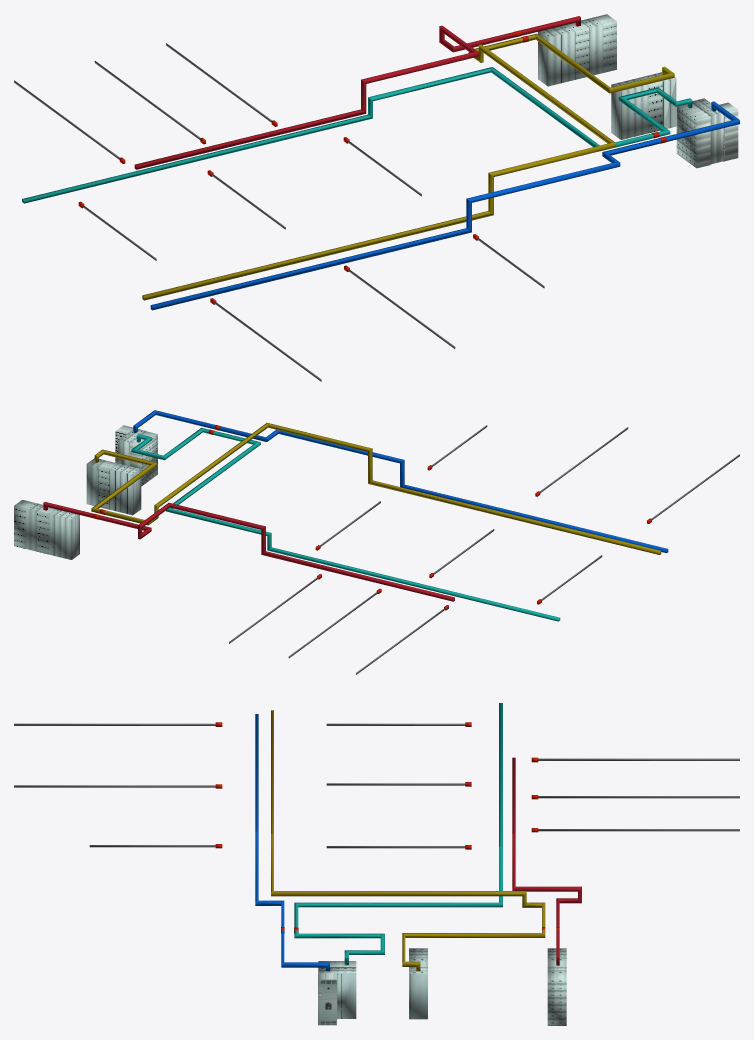
File: BuswayLayoutWithTextures.fbx
The picture shows the model from 3 angles, top to bottom: view 1: azimuth 30°, elevation 25°; view 2: azimuth 150°, elevation 25°; view 3: azimuth 270°, elevation 25°; orthographic projection. The views are drawn at different scales.
Visible parts, largest first — view 1: Import Symbol location <Not Shared> [475121]_[475058], Import Symbol location <Not Shared> [475121]_[475068], Import Symbol location <Not Shared> [475121]_[475067], Import Symbol location <Not Shared> [475121]_[475060], Import Symbol location <Not Shared> [475121].010, Import Symbol location <Not Shared> [475121].002, Import Symbol location <Not Shared> [475121].006, Import Symbol location <Not Shared> [475121].003, Import Symbol location <Not Shared> [475121].008, Import Symbol location <Not Shared> [475121].007, Import Symbol location <Not Shared> [475121].009, Import Symbol location <Not Shared> [475121].001 (+2 smaller); view 2: Import Symbol location <Not Shared> [475121]_[475058], Import Symbol location <Not Shared> [475121]_[475068], Import Symbol location <Not Shared> [475121]_[475067], Import Symbol location <Not Shared> [475121]_[475060], Import Symbol location <Not Shared> [475121].010, Import Symbol location <Not Shared> [475121].006, Import Symbol location <Not Shared> [475121].002, Import Symbol location <Not Shared> [475121].005, Import Symbol location <Not Shared> [475121].007, Import Symbol location <Not Shared> [475121].008, Import Symbol location <Not Shared> [475121].009, Import Symbol location <Not Shared> [475121].004; view 3: Import Symbol location <Not Shared> [475121]_[475058], Import Symbol location <Not Shared> [475121]_[475068], Import Symbol location <Not Shared> [475121]_[475067], Import Symbol location <Not Shared> [475121]_[475060], Import Symbol location <Not Shared> [475121].003, Import Symbol location <Not Shared> [475121].007, Import Symbol location <Not Shared> [475121].005, Import Symbol location <Not Shared> [475121].013, Import Symbol location <Not Shared> [475121]_[475061], Import Symbol location <Not Shared> [475121]_[475062], Import Symbol location <Not Shared> [475121]_[475063], Import Symbol location <Not Shared> [475121]_[475065] (+1 smaller).
Part boxes in pixels (bbox=[...]): Import Symbol location <Not Shared> [475121]_[475058]: bbox=[142, 33, 674, 300]; Import Symbol location <Not Shared> [475121]_[475068]: bbox=[22, 67, 692, 203]; Import Symbol location <Not Shared> [475121]_[475067]: bbox=[150, 101, 739, 310]; Import Symbol location <Not Shared> [475121]_[475060]: bbox=[134, 16, 580, 169]; Import Symbol location <Not Shared> [475121].010: bbox=[538, 25, 575, 86]; Import Symbol location <Not Shared> [475121].002: bbox=[676, 104, 710, 168]; Import Symbol location <Not Shared> [475121].006: bbox=[611, 78, 648, 139]; Import Symbol location <Not Shared> [475121].003: bbox=[692, 98, 724, 164]; Import Symbol location <Not Shared> [475121].008: bbox=[581, 17, 603, 75]; Import Symbol location <Not Shared> [475121].007: bbox=[593, 14, 616, 72]; Import Symbol location <Not Shared> [475121].009: bbox=[566, 22, 589, 79]; Import Symbol location <Not Shared> [475121].001: bbox=[719, 102, 738, 161]; Import Symbol location <Not Shared> [475121]_[475058]: bbox=[91, 423, 661, 554]; Import Symbol location <Not Shared> [475121]_[475068]: bbox=[131, 427, 560, 621]; Import Symbol location <Not Shared> [475121]_[475067]: bbox=[133, 410, 668, 553]; Import Symbol location <Not Shared> [475121]_[475060]: bbox=[43, 502, 454, 601]; Import Symbol location <Not Shared> [475121].010: bbox=[48, 509, 79, 559]; Import Symbol location <Not Shared> [475121].006: bbox=[109, 463, 141, 515]; Import Symbol location <Not Shared> [475121].002: bbox=[130, 431, 157, 486]; Import Symbol location <Not Shared> [475121].005: bbox=[86, 458, 105, 505]; Import Symbol location <Not Shared> [475121].007: bbox=[14, 500, 33, 548]; Import Symbol location <Not Shared> [475121].008: bbox=[25, 502, 43, 551]; Import Symbol location <Not Shared> [475121].009: bbox=[37, 507, 55, 554]; Import Symbol location <Not Shared> [475121].004: bbox=[98, 460, 117, 509]; Import Symbol location <Not Shared> [475121]_[475058]: bbox=[271, 710, 545, 971]; Import Symbol location <Not Shared> [475121]_[475068]: bbox=[294, 703, 502, 965]; Import Symbol location <Not Shared> [475121]_[475067]: bbox=[255, 714, 329, 971]; Import Symbol location <Not Shared> [475121]_[475060]: bbox=[512, 757, 581, 965]; Import Symbol location <Not Shared> [475121].003: bbox=[318, 967, 356, 1019]; Import Symbol location <Not Shared> [475121].007: bbox=[547, 973, 566, 1025]; Import Symbol location <Not Shared> [475121].005: bbox=[409, 967, 427, 1019]; Import Symbol location <Not Shared> [475121].013: bbox=[318, 979, 336, 1025]; Import Symbol location <Not Shared> [475121]_[475061]: bbox=[538, 796, 739, 798]; Import Symbol location <Not Shared> [475121]_[475062]: bbox=[538, 829, 739, 831]; Import Symbol location <Not Shared> [475121]_[475063]: bbox=[538, 758, 739, 760]; Import Symbol location <Not Shared> [475121]_[475065]: bbox=[14, 723, 215, 725].
Bounding box in the file's own units: 119 × 12.79 × 128.
8 materials, 1 textured.
